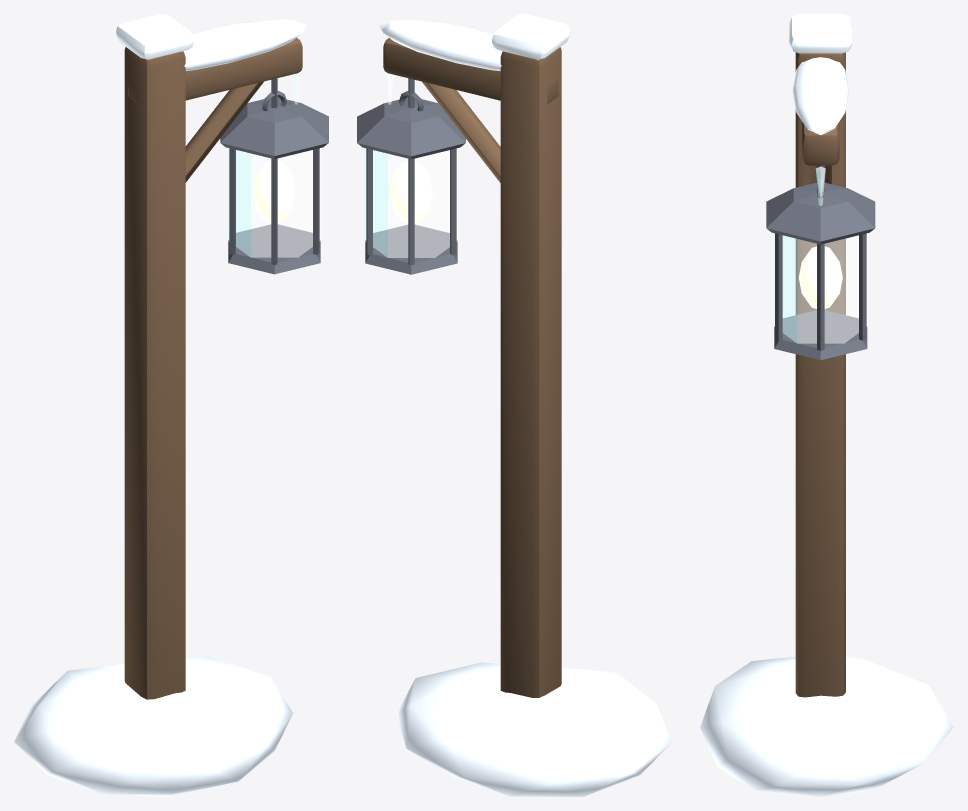
Rendered from lantern_ice.glb.
3 views of the same model, side by side, from view 1: azimuth 30°, elevation 25°; view 2: azimuth 150°, elevation 25°; view 3: azimuth 270°, elevation 25° (orthographic).
Parts seen in each view (by area): view 1: lantern_ice; view 2: lantern_ice; view 3: lantern_ice.
Boxes of the visible parts, x1=… form: lantern_ice: x1=14, y1=14, x2=328, y2=796; lantern_ice: x1=357, y1=14, x2=671, y2=796; lantern_ice: x1=700, y1=14, x2=953, y2=796.
Bounding box in the file's own units: 0.5419 × 1.31 × 0.403.
